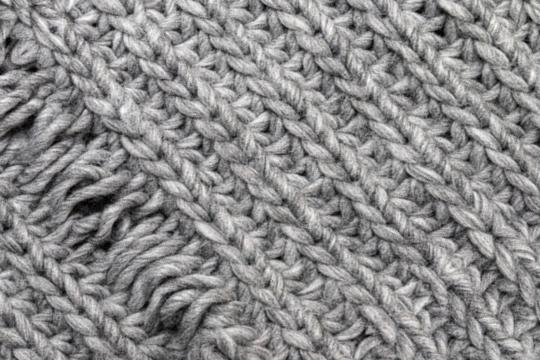slub: (1, 16, 236, 350)
